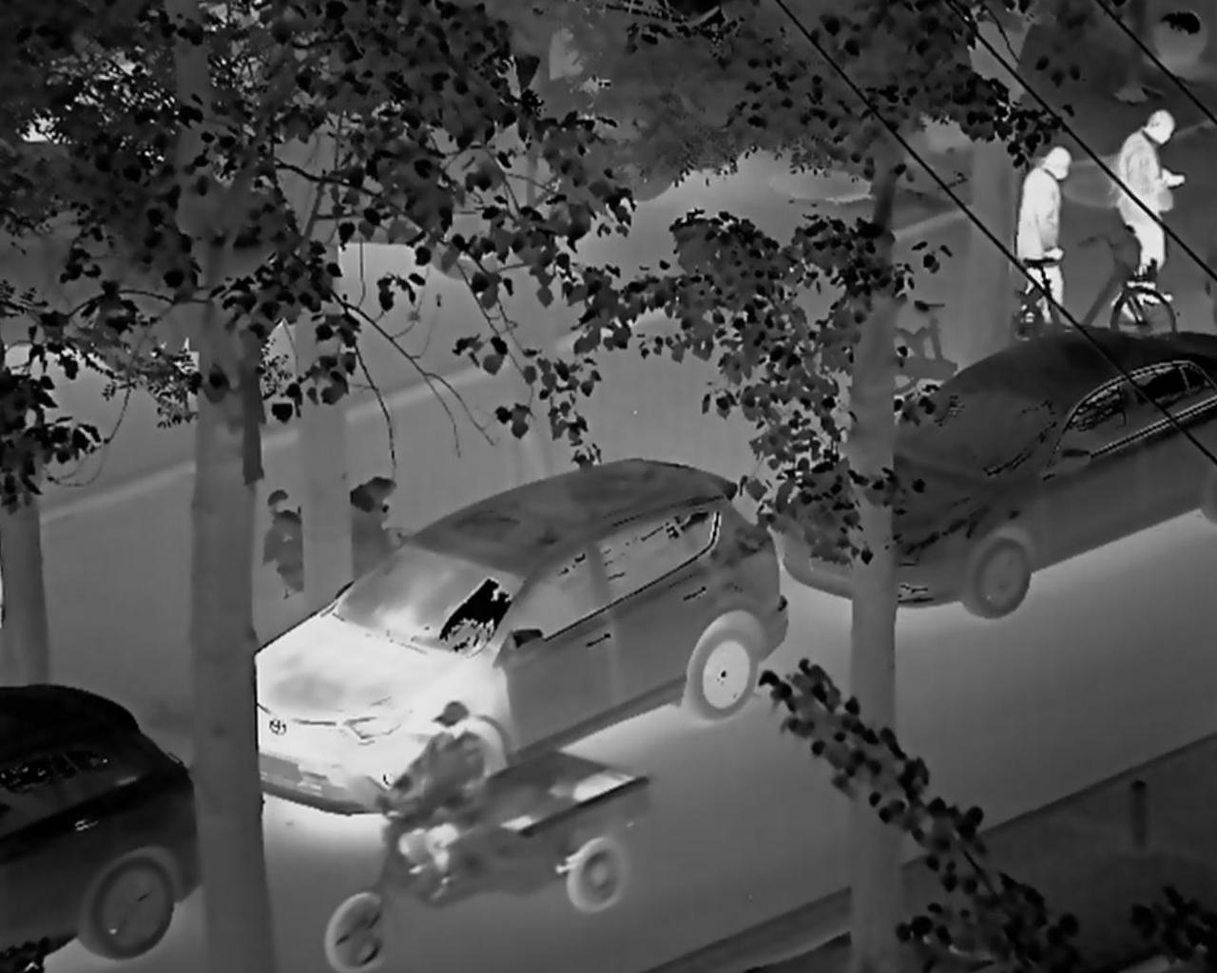person: (369, 687, 509, 923), (1108, 91, 1186, 345), (1016, 128, 1079, 354)
